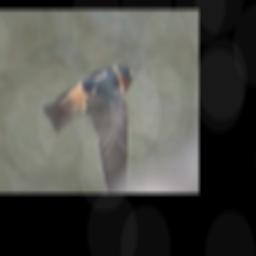Swallow: (41, 60, 136, 193)
